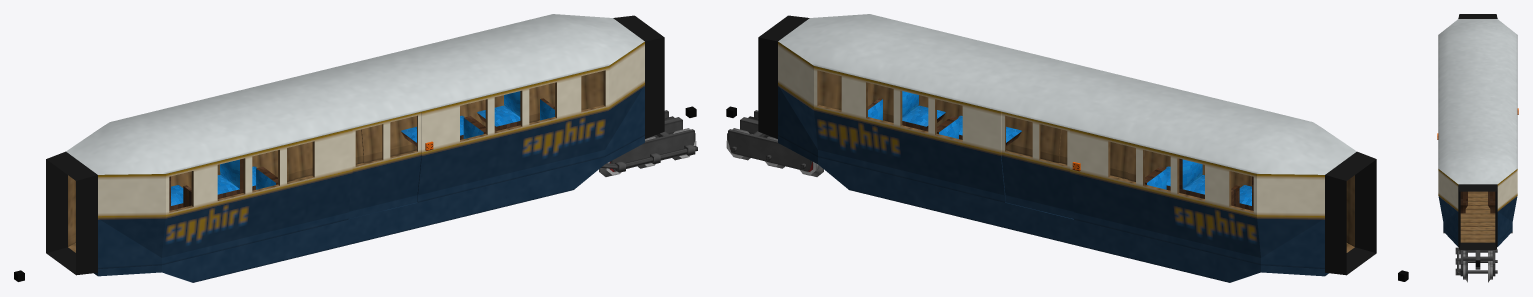
File: sapphire_express_2.obj
3 views of the same model, side by side, from view 1: azimuth 30°, elevation 25°; view 2: azimuth 150°, elevation 25°; view 3: azimuth 270°, elevation 25° (orthographic). The views are drawn at different scales.
Parts seen in each view (by area): view 1: FRAME_ext_roof, FRAME_ext_body.002, FRAME_ext_body.001, connector.001, FRAME_int_body.001, connector, DOOR_6_CG_doorleft_NOTOUCH, FRAME_int_body.002, DOOR_5_CG_doorleft_NOTOUCH, BOGEY_REAR_1, bench.007, bench (+1 smaller); view 2: FRAME_ext_roof, FRAME_ext_body.002, FRAME_ext_body.001, connector.001, FRAME_int_body.001, connector, FRAME_int_body.002, DOOR_4_CG_doorright_NOTOUCH, DOOR_3_CG_doorright_NOTOUCH, BOGEY_REAR_1, bench.006, bench.001 (+1 smaller); view 3: FRAME_ext_roof, FRAME_ext_body.001, FRAME_int_floor, connector, BOGEY_REAR_1, BOGEY_REAR_WHEEL_1, connector.001, bench, bench.001, BOGEY_REAR_WHEEL_2, BOGEY_REAR_WHEEL_3.
Boxes of the visible parts, <box> form: FRAME_ext_roof: <box>66,14,644,174</box>; FRAME_ext_body.002: <box>94,128,383,282</box>; FRAME_ext_body.001: <box>383,41,644,236</box>; connector.001: <box>46,151,97,275</box>; FRAME_int_body.001: <box>361,70,605,162</box>; connector: <box>613,15,664,138</box>; DOOR_6_CG_doorleft_NOTOUCH: <box>383,111,421,210</box>; FRAME_int_body.002: <box>68,141,314,246</box>; DOOR_5_CG_doorleft_NOTOUCH: <box>348,120,386,218</box>; BOGEY_REAR_1: <box>610,110,695,172</box>; bench.007: <box>217,159,256,198</box>; bench: <box>477,91,520,131</box>; FRAME_ext_roof: <box>778,14,1356,174</box>; FRAME_ext_body.002: <box>1039,128,1328,282</box>; FRAME_ext_body.001: <box>778,41,1039,236</box>; connector.001: <box>1325,151,1376,275</box>; FRAME_int_body.001: <box>817,70,1061,162</box>; connector: <box>758,15,809,138</box>; FRAME_int_body.002: <box>1108,141,1354,246</box>; DOOR_4_CG_doorright_NOTOUCH: <box>1001,111,1039,210</box>; DOOR_3_CG_doorright_NOTOUCH: <box>1036,120,1073,218</box>; BOGEY_REAR_1: <box>728,110,812,171</box>; bench.006: <box>1166,158,1204,198</box>; bench.001: <box>902,91,945,131</box>; FRAME_ext_roof: <box>1438,19,1517,184</box>; FRAME_ext_body.001: <box>1438,169,1517,246</box>; FRAME_int_floor: <box>1460,191,1495,242</box>; connector: <box>1458,184,1497,249</box>; BOGEY_REAR_1: <box>1455,247,1495,276</box>; BOGEY_REAR_WHEEL_1: <box>1463,261,1497,282</box>; connector.001: <box>1458,14,1497,18</box>; bench: <box>1488,191,1495,213</box>; bench.001: <box>1460,191,1467,213</box>; BOGEY_REAR_WHEEL_2: <box>1463,251,1497,264</box>; BOGEY_REAR_WHEEL_3: <box>1463,249,1497,253</box>.
Bounding box in the file's own units: 12.25 × 2.56 × 2.06.
Materials: 6 (6 with a texture image).
